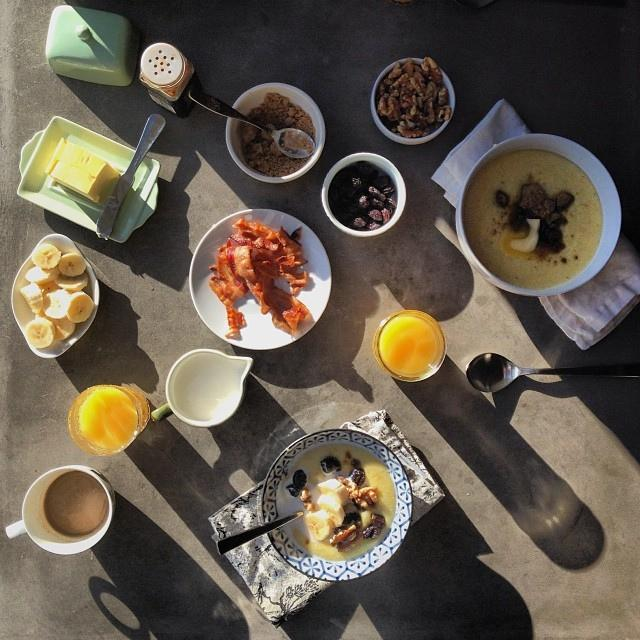banana: (316, 494, 345, 528), (304, 511, 334, 542), (26, 318, 56, 348), (66, 292, 94, 324), (32, 244, 62, 270), (43, 290, 70, 318), (45, 316, 75, 340), (20, 283, 44, 313), (54, 271, 88, 292), (58, 252, 86, 277), (24, 266, 59, 285)
